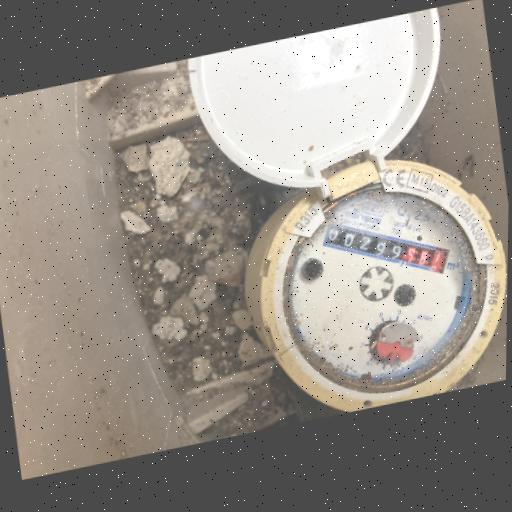0: (323, 223, 343, 247), (339, 227, 359, 251)
2: (355, 231, 376, 255)
5: (402, 242, 420, 265)
7: (426, 244, 447, 274)
8: (415, 245, 433, 269)
9: (371, 234, 392, 258), (387, 238, 408, 262)
border_water_meter_number: (319, 197, 455, 299)
